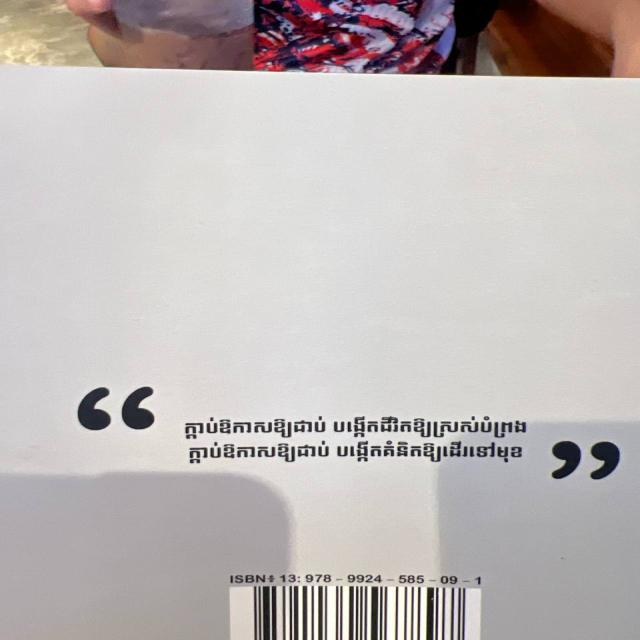Yolov11kh: (179, 412, 529, 443), (184, 441, 530, 466)
